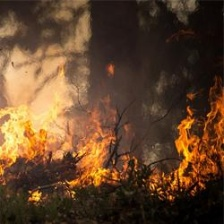fire: (2, 94, 224, 197)
